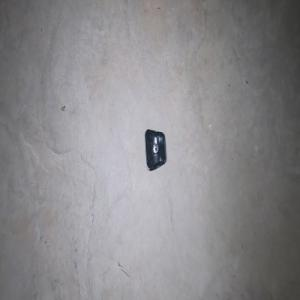LuggagePart: (144, 128, 166, 171)
